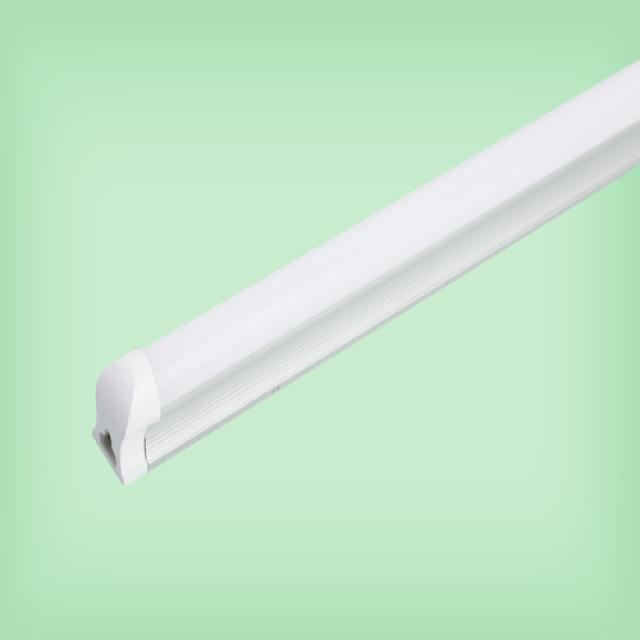tubelight_off: (75, 50, 640, 500)
